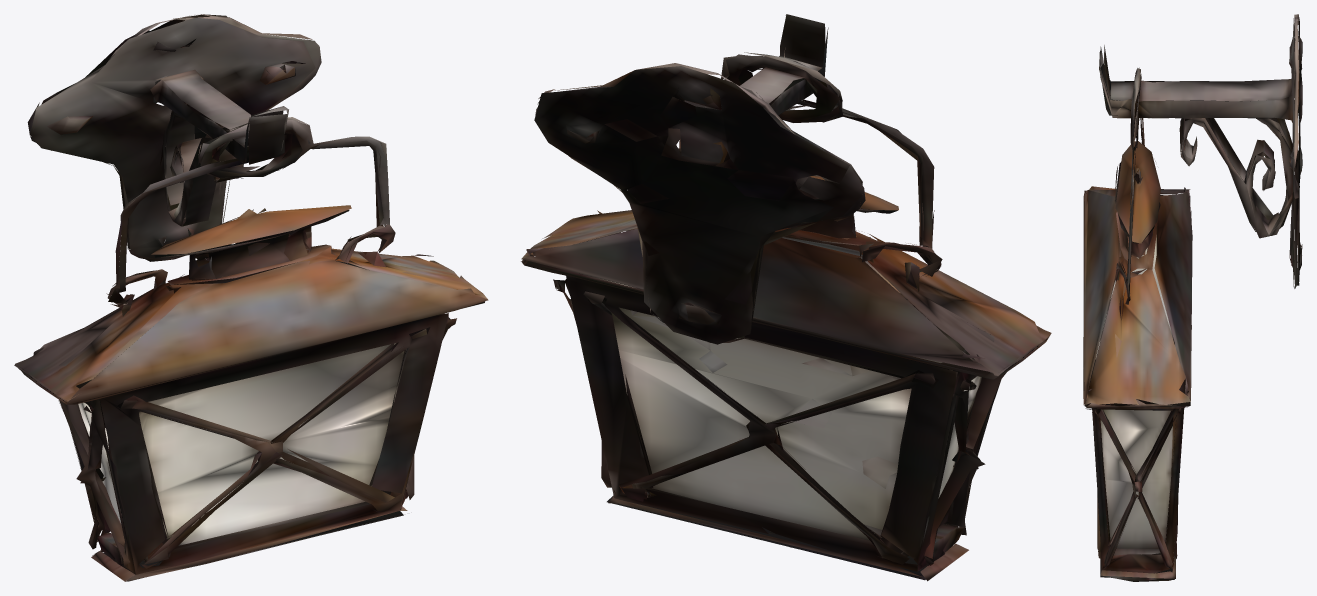
Rendered from farol_brazo.movil.glb.
3 views of the same model, side by side, from view 1: azimuth 30°, elevation 25°; view 2: azimuth 150°, elevation 25°; view 3: azimuth 270°, elevation 25° (orthographic). The views are drawn at different scales.
Parts seen in each view (by area): view 1: geometry_0; view 2: geometry_0; view 3: geometry_0.
Part boxes in pixels (x1,y1,x2,y2): geometry_0: [14, 14, 488, 581]; geometry_0: [521, 14, 1051, 581]; geometry_0: [1083, 14, 1302, 581].
Size of the model in its own units: 0.6986 by 0.7489 by 0.2996.
1 material, 1 textured.
